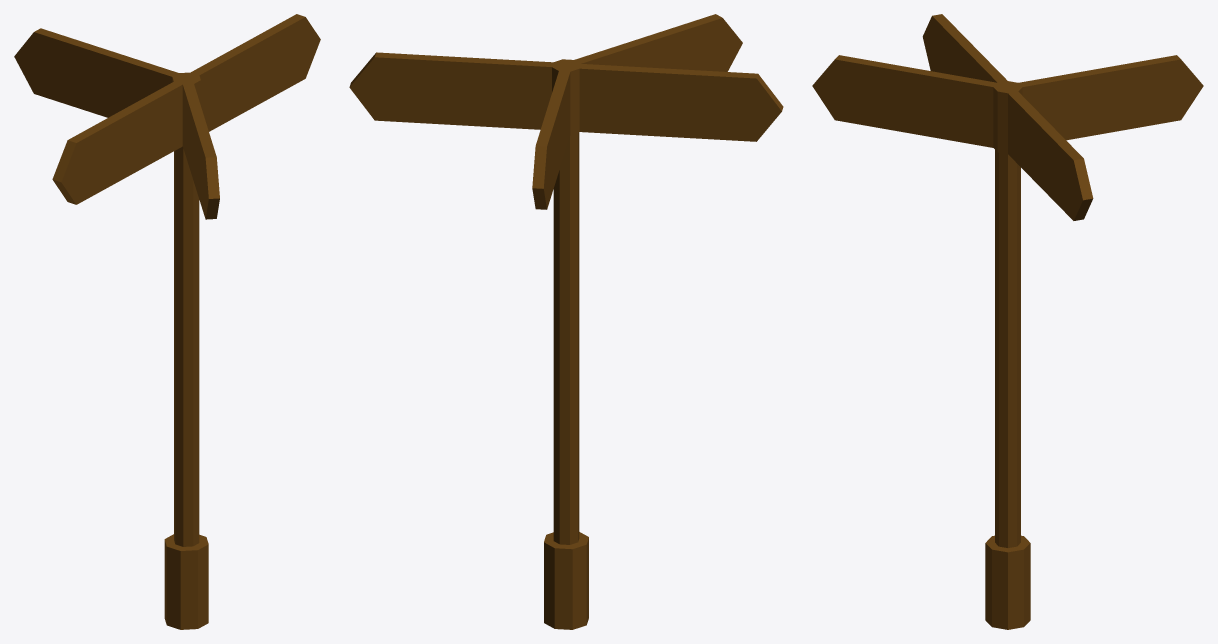
Rendered from M_sign1.fbx.
The picture shows the model from 3 angles, left to right: view 1: azimuth 30°, elevation 25°; view 2: azimuth 150°, elevation 25°; view 3: azimuth 270°, elevation 25°; orthographic projection. The views are drawn at different scales.
Parts seen in each view (by area): view 1: Circle; view 2: Circle; view 3: Circle.
Boxes of the visible parts, box(x1,y1,x2,y2) form: Circle: box(14, 14, 320, 629); Circle: box(349, 14, 783, 629); Circle: box(812, 14, 1203, 629).
Size of the model in its own units: 798 by 1200 by 798.
